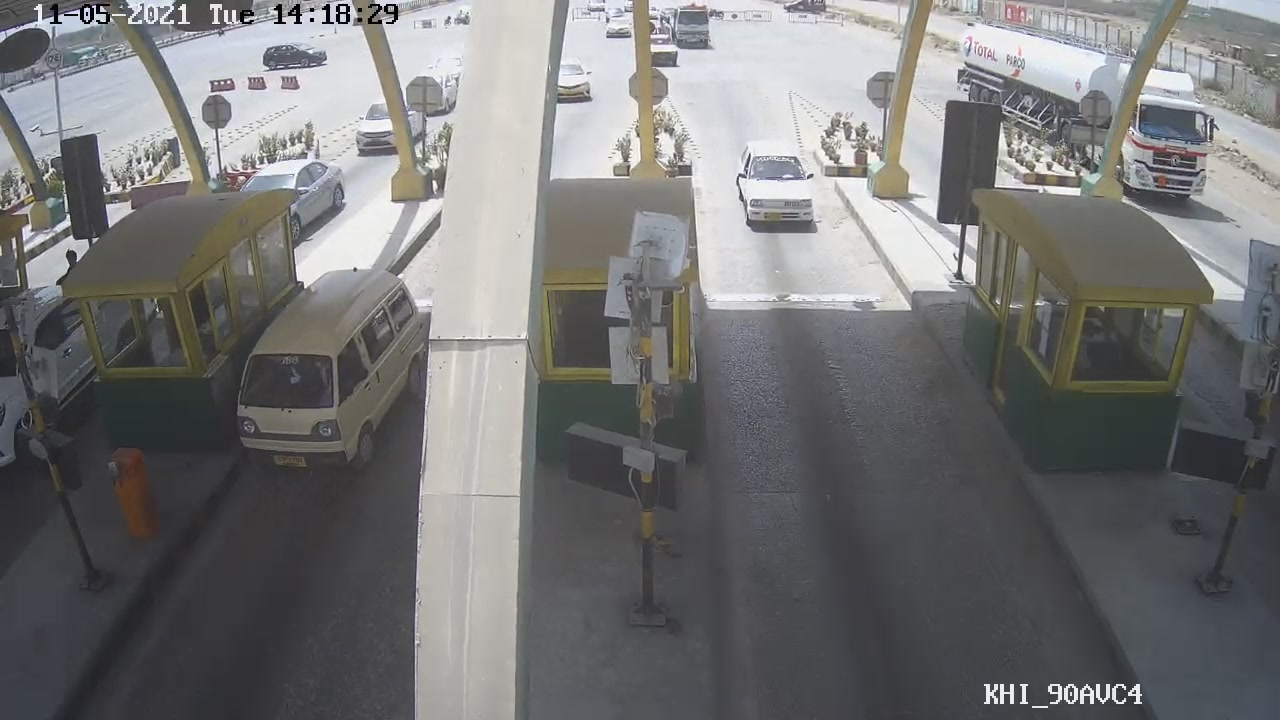F1: (729, 138, 822, 236)
